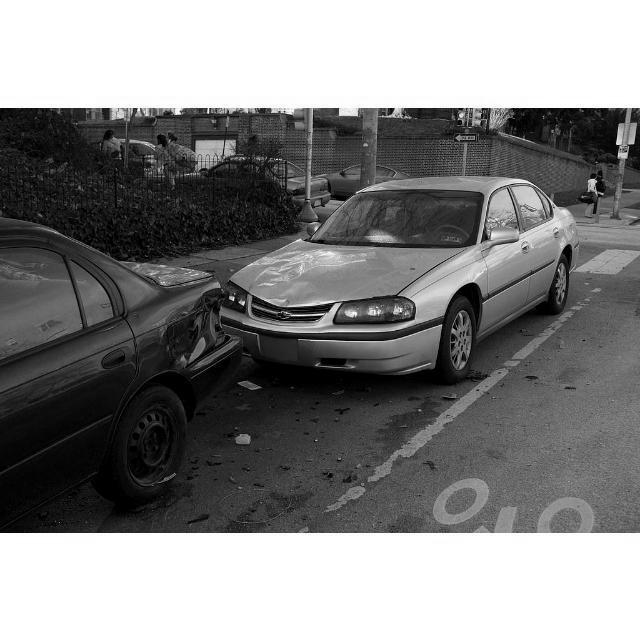bonnet-dent: (249, 234, 405, 304)
